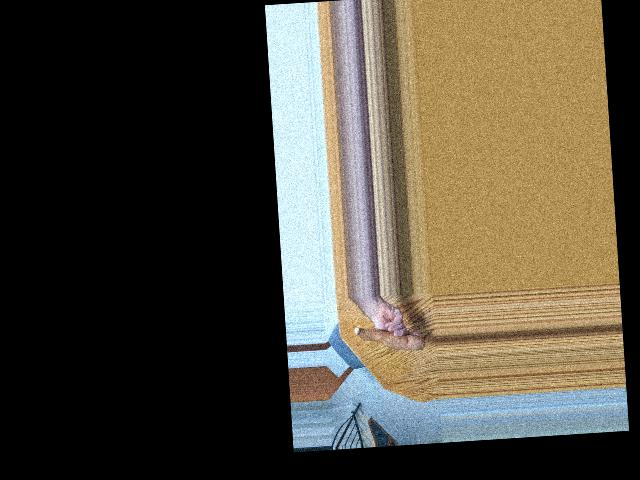sweet_potato: (353, 320, 426, 355)
